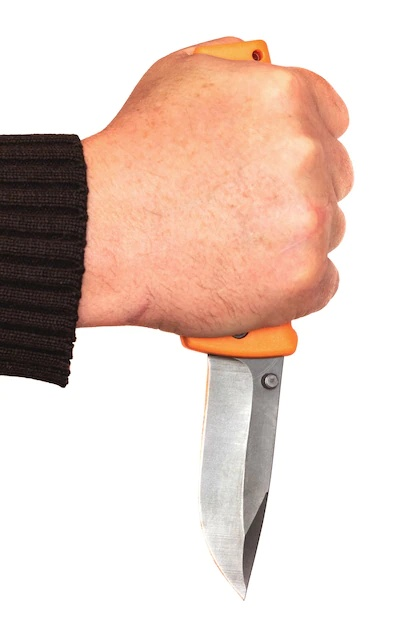knife: (179, 33, 299, 601)
